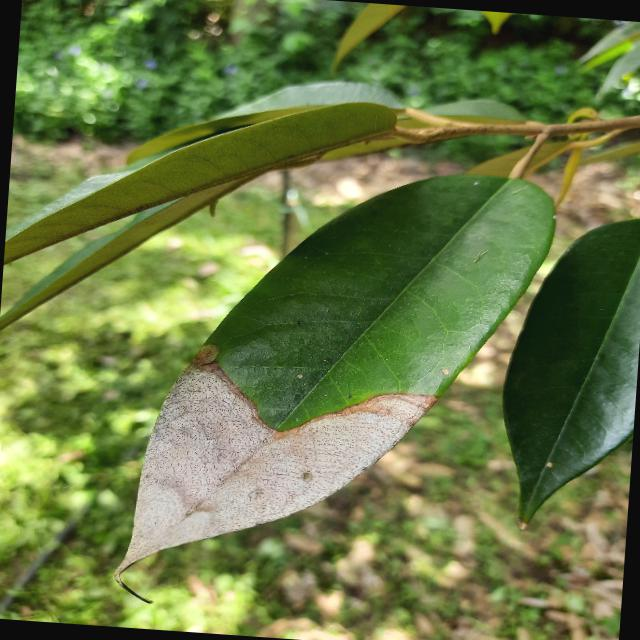Leaf Blight: (106, 141, 572, 613)
